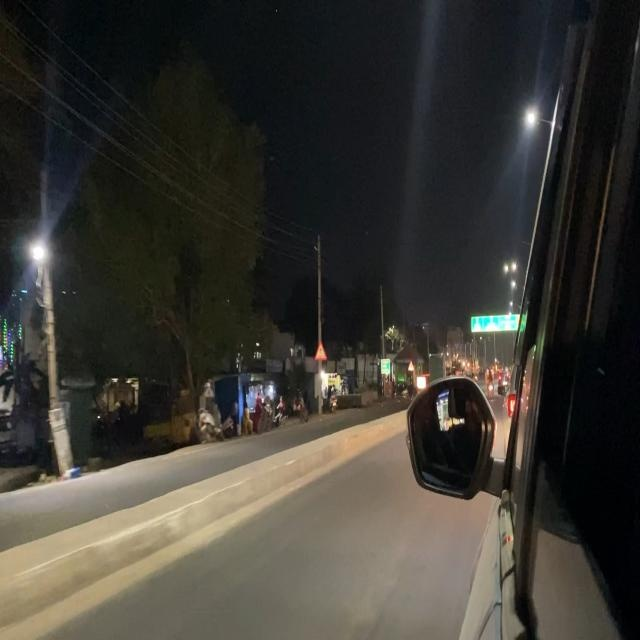bien_nguy_hiem: (314, 340, 327, 362), (407, 358, 414, 372)
